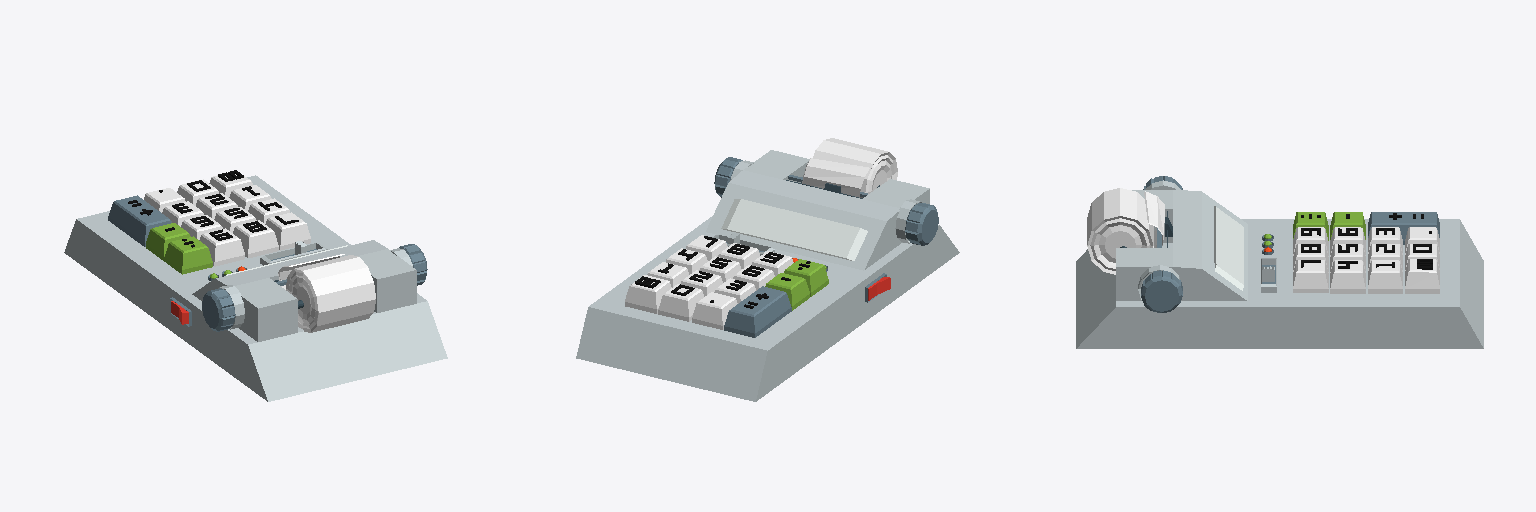
3 renders of one model, left to right at view 1: azimuth 30°, elevation 25°; view 2: azimuth 150°, elevation 25°; view 3: azimuth 270°, elevation 25°, orthographic.
Visible parts, largest first — view 1: group[number redacted], group[number redacted], group[number redacted], group[number redacted], group[number redacted], group[number redacted], group[number redacted], group[number redacted], group[number redacted], group[number redacted], group[number redacted], group[number redacted] (+6 smaller); view 2: group[number redacted], group[number redacted], group[number redacted], group[number redacted], group[number redacted], group[number redacted], group[number redacted], group[number redacted], group[number redacted], group[number redacted], group[number redacted], group[number redacted] (+8 smaller); view 3: group[number redacted], group[number redacted], group[number redacted], group[number redacted], group[number redacted], group[number redacted], group[number redacted], group[number redacted], group[number redacted], group[number redacted], group[number redacted], group[number redacted] (+5 smaller).
Boxes of the visible parts, box(x1,y1,x2,y2) form: group[number redacted]: box(64, 175, 447, 401); group[number redacted]: box(192, 240, 416, 341); group[number redacted]: box(286, 255, 375, 332); group[number redacted]: box(108, 195, 171, 246); group[number redacted]: box(164, 236, 212, 274); group[number redacted]: box(233, 220, 278, 257); group[number redacted]: box(202, 288, 235, 331); group[number redacted]: box(199, 228, 244, 266); group[number redacted]: box(265, 212, 310, 250); group[number redacted]: box(146, 223, 190, 260); group[number redacted]: box(209, 170, 252, 197); group[number redacted]: box(229, 185, 271, 210); group[number redacted]: box(576, 216, 959, 401); group[number redacted]: box(706, 150, 929, 270); group[number redacted]: box(721, 199, 867, 260); group[number redacted]: box(813, 138, 897, 197); group[number redacted]: box(724, 286, 791, 337); group[number redacted]: box(802, 158, 869, 197); group[number redacted]: box(625, 275, 671, 313); group[number redacted]: box(905, 203, 938, 245); group[number redacted]: box(692, 292, 737, 329); group[number redacted]: box(658, 284, 703, 321); group[number redacted]: box(765, 273, 809, 310); group[number redacted]: box(784, 259, 828, 296); group[number redacted]: box(1076, 219, 1483, 348); group[number redacted]: box(1116, 190, 1247, 300); group[number redacted]: box(1087, 188, 1153, 274); group[number redacted]: box(1214, 206, 1243, 290); group[number redacted]: box(1141, 270, 1182, 312); group[number redacted]: box(1405, 259, 1439, 293); group[number redacted]: box(1330, 260, 1365, 293); group[number redacted]: box(1368, 260, 1402, 293); group[number redacted]: box(1293, 260, 1328, 292); group[number redacted]: box(1368, 212, 1439, 244); group[number redacted]: box(1144, 191, 1164, 247); group[number redacted]: box(1293, 227, 1328, 256).
Size of the model in its own units: 1.48 by 0.705 by 2.52.